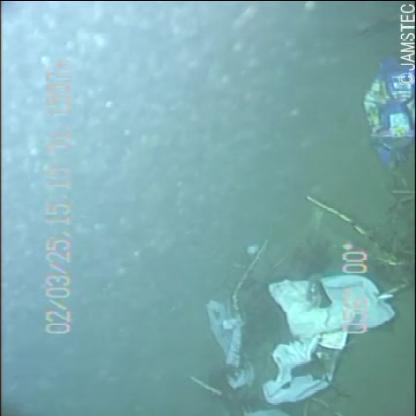Rác: (183, 238, 390, 406)
